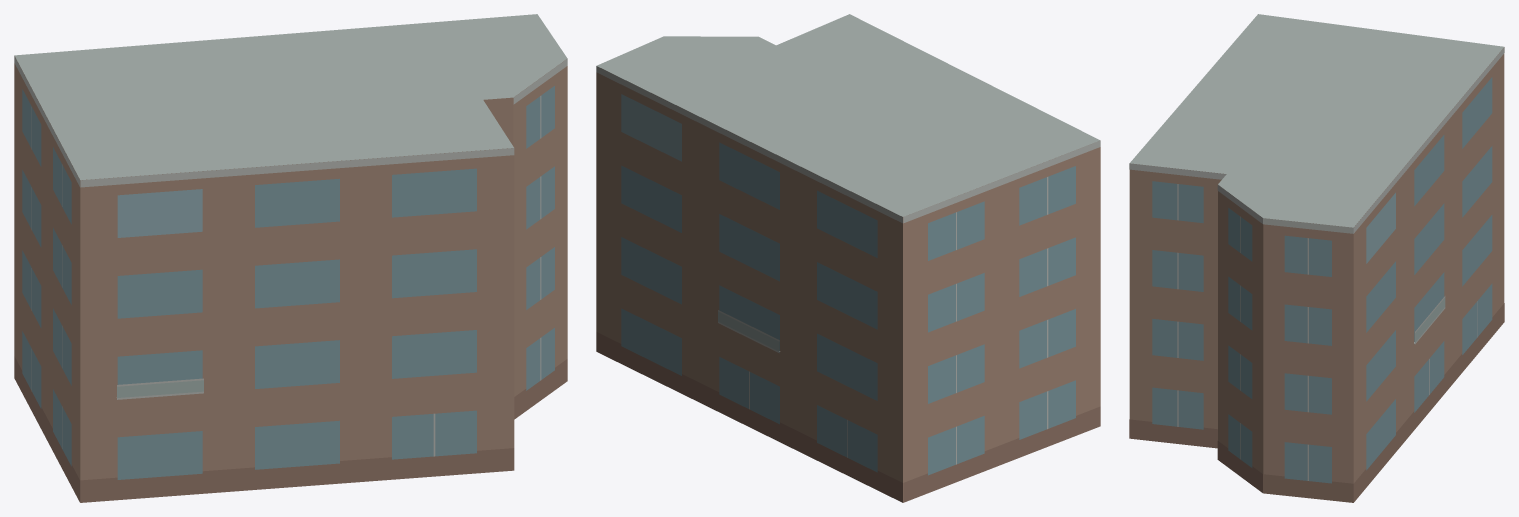
The model's file is survey-upis-33006617.glb.
The picture shows the model from 3 angles, left to right: view 1: azimuth 30°, elevation 25°; view 2: azimuth 150°, elevation 25°; view 3: azimuth 270°, elevation 25°; orthographic projection. The views are drawn at different scales.
Parts seen in each view (by area): view 1: survey-upis-33006617.tmp; view 2: survey-upis-33006617.tmp; view 3: survey-upis-33006617.tmp.
Boxes of the visible parts, bbox=[...] form: survey-upis-33006617.tmp: bbox=[14, 14, 567, 502]; survey-upis-33006617.tmp: bbox=[596, 14, 1100, 502]; survey-upis-33006617.tmp: bbox=[1129, 14, 1504, 502].
Size of the model in its own units: 17.99 by 10.8 by 13.35.
